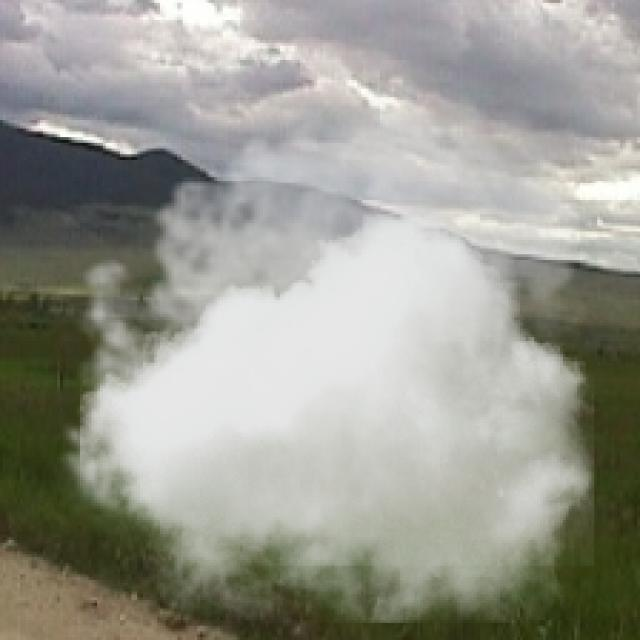smoke: (46, 68, 594, 623)
